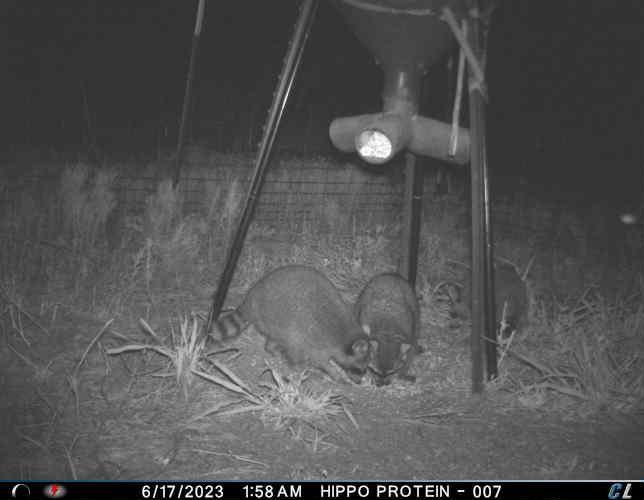Raccoon: (207, 263, 379, 384), (353, 268, 425, 380), (448, 258, 530, 345)
